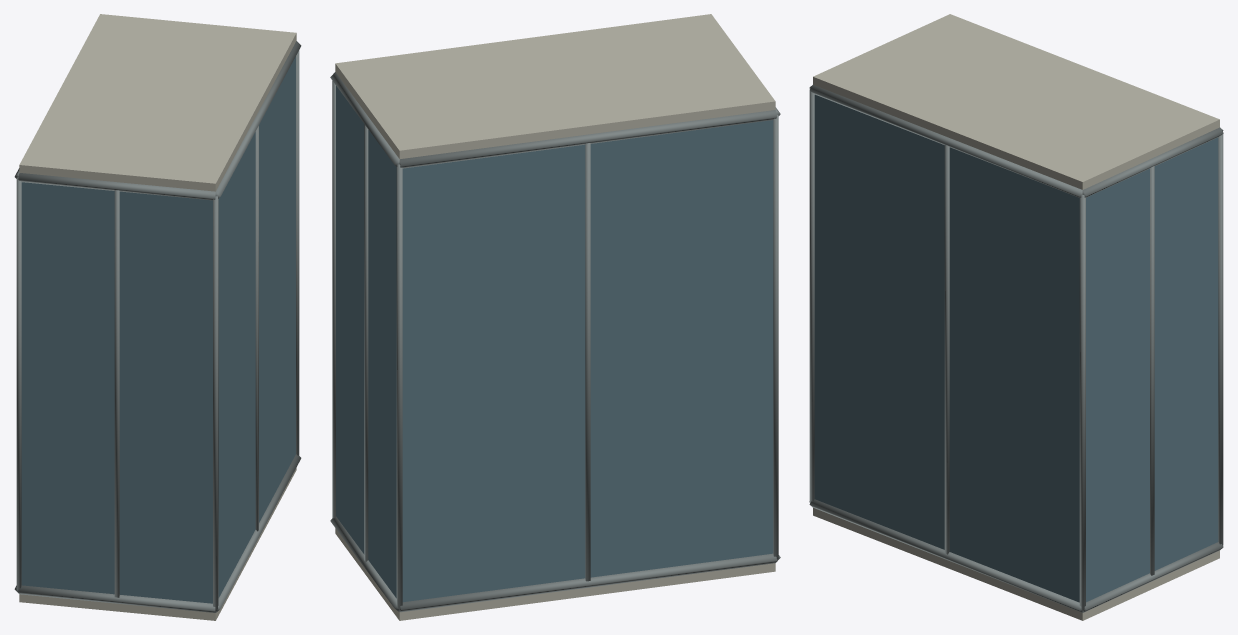
Rendered from connector-v1-v2-lod2.glb.
The picture shows the model from 3 angles, left to right: view 1: azimuth 30°, elevation 25°; view 2: azimuth 150°, elevation 25°; view 3: azimuth 270°, elevation 25°; orthographic projection. The views are drawn at different scales.
Parts seen in each view (by area): view 1: connector-v1-v2_MATERIAL_BATCH; view 2: connector-v1-v2_MATERIAL_BATCH; view 3: connector-v1-v2_MATERIAL_BATCH.
Boxes of the visible parts, x1,y1,x2,y2 form: connector-v1-v2_MATERIAL_BATCH: (14, 14, 301, 620); connector-v1-v2_MATERIAL_BATCH: (330, 14, 780, 620); connector-v1-v2_MATERIAL_BATCH: (809, 14, 1223, 620).
Bounding box in the file's own units: 4.41 × 5.27 × 4.51.
